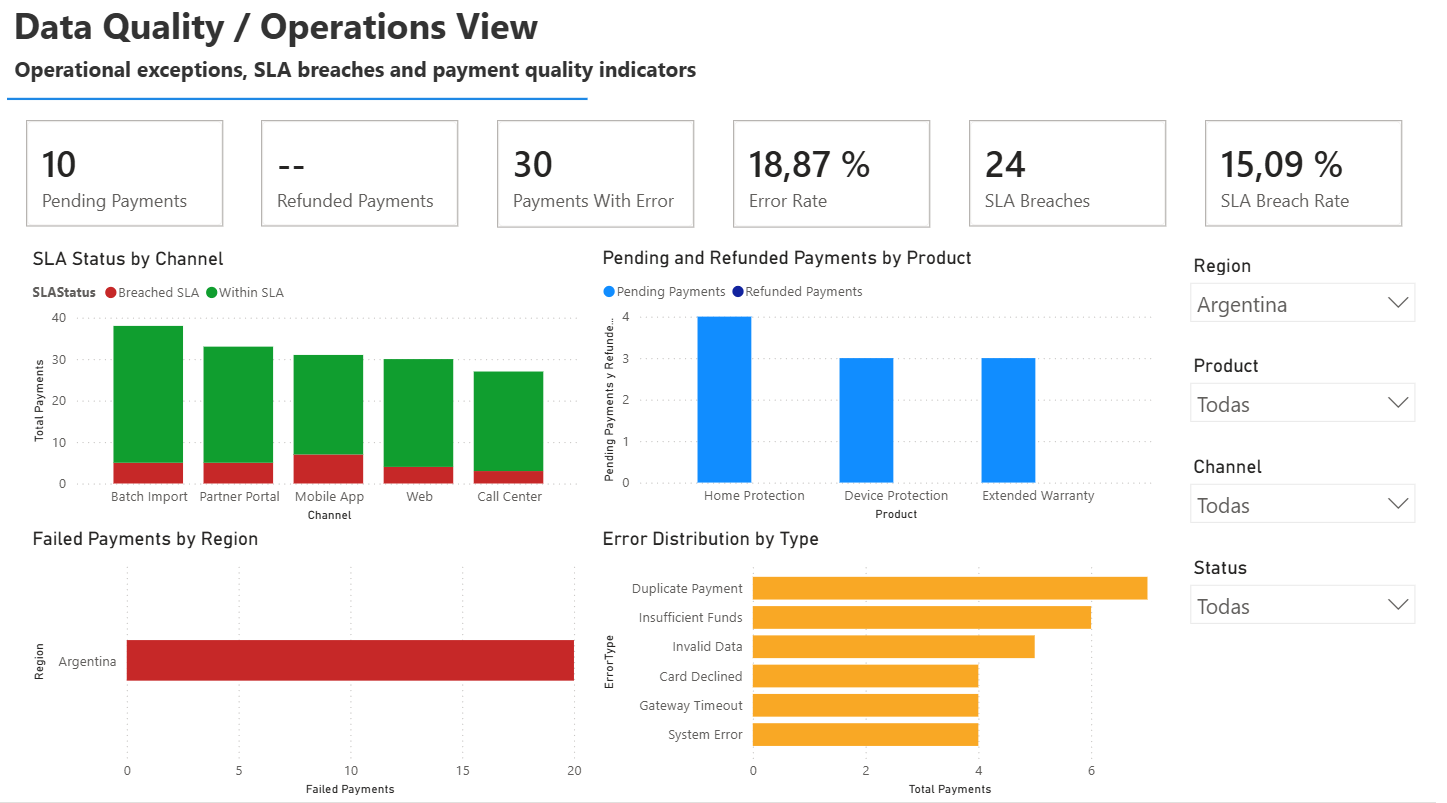

The page's visual inventory and layout, read from the dashboard file:
{"tool":"powerbi","page":{"name":"Data Quality / Operations","canvas":[1280,720],"ordinal":1},"visuals":[{"type":"textbox","box":[9.9,0,875.8,56.6],"z":0},{"type":"textbox","box":[10.4,49.1,875.7,59.4],"z":1000},{"type":"shape","box":[8.5,78.3,518.1,30.2],"z":2000},{"type":"cardVisual","fields":{"Data":["Payments.Pending Payments"]},"box":[8.5,95.3,210,129.3],"z":3000},{"type":"cardVisual","fields":{"Data":["Payments.Refunded Payments"]},"box":[218.9,95.3,210.4,129.3],"z":4000},{"type":"cardVisual","fields":{"Data":["Payments.Payments With Error"]},"box":[429.4,95.3,210.4,130.2],"z":5000},{"type":"cardVisual","fields":{"Data":["Payments.Error Rate"]},"box":[639.8,95.3,210.4,130.2],"z":6000},{"type":"cardVisual","fields":{"Data":["Payments.SLA Breaches"]},"box":[850.2,95.3,210.4,129.3],"z":7000},{"type":"cardVisual","fields":{"Data":["Payments.SLA Breach Rate"]},"box":[1060.7,95.3,210.4,129.3],"z":8000},{"type":"columnChart","title":"SLA Status by Channel","fields":{"Category":["Payments.Channel"],"Series":["Payments.SLAStatus"],"Y":["Payments.Total Payments"]},"box":[26.4,225.5,500,250],"z":9000},{"type":"clusteredBarChart","title":"Failed Payments by Region","fields":{"Category":["Payments.Region"],"Y":["Payments.Failed Payments"]},"box":[26.4,475.6,500,244],"z":10000},{"type":"clusteredBarChart","title":"Error Distribution by Type","fields":{"Category":["Payments.ErrorType"],"Y":["Payments.Total Payments"]},"box":[535,475.6,500.1,244.4],"z":10001},{"type":"clusteredColumnChart","title":"Pending and Refunded Payments by Product","fields":{"Category":["Payments.Product"],"Y":["Payments.Pending Payments","Payments.Refunded Payments"]},"box":[535,224.6,500.1,250.1],"z":10002},{"type":"slicer","fields":{"Values":["Payments.Region"]},"box":[1055,226.5,220.8,80],"z":10003},{"type":"slicer","fields":{"Values":["Payments.Product"]},"box":[1055,316.1,220.8,80.2],"z":10004},{"type":"slicer","fields":{"Values":["Payments.Channel"]},"box":[1055,405.7,220.8,80.2],"z":10005},{"type":"slicer","fields":{"Values":["Payments.Status"]},"box":[1055,496.4,220.8,80.2],"z":10006}]}

Visuals, with their boxes in screenshot pixels (x1, y1, x2, y2), scaled from the page's 1280x720 canvas onto the 1447x803 screenshot:
textbox: <bbox>11, 0, 1001, 63</bbox>
textbox: <bbox>12, 55, 1002, 121</bbox>
shape: <bbox>10, 87, 595, 121</bbox>
cardVisual - Payments.Pending Payments: <bbox>10, 106, 247, 250</bbox>
cardVisual - Payments.Refunded Payments: <bbox>247, 106, 485, 250</bbox>
cardVisual - Payments.Payments With Error: <bbox>485, 106, 723, 251</bbox>
cardVisual - Payments.Error Rate: <bbox>723, 106, 961, 251</bbox>
cardVisual - Payments.SLA Breaches: <bbox>961, 106, 1199, 250</bbox>
cardVisual - Payments.SLA Breach Rate: <bbox>1199, 106, 1437, 250</bbox>
"SLA Status by Channel" columnChart: <bbox>30, 251, 595, 530</bbox>
"Failed Payments by Region" clusteredBarChart: <bbox>30, 530, 595, 802</bbox>
"Error Distribution by Type" clusteredBarChart: <bbox>605, 530, 1170, 802</bbox>
"Pending and Refunded Payments by Product" clusteredColumnChart: <bbox>605, 250, 1170, 529</bbox>
slicer - Payments.Region: <bbox>1193, 253, 1442, 342</bbox>
slicer - Payments.Product: <bbox>1193, 353, 1442, 442</bbox>
slicer - Payments.Channel: <bbox>1193, 452, 1442, 542</bbox>
slicer - Payments.Status: <bbox>1193, 554, 1442, 643</bbox>
